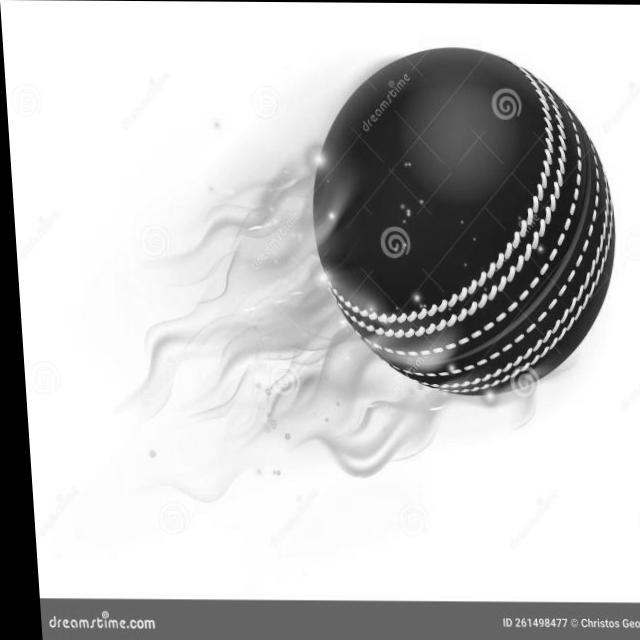cricket ball: (309, 48, 610, 397)
